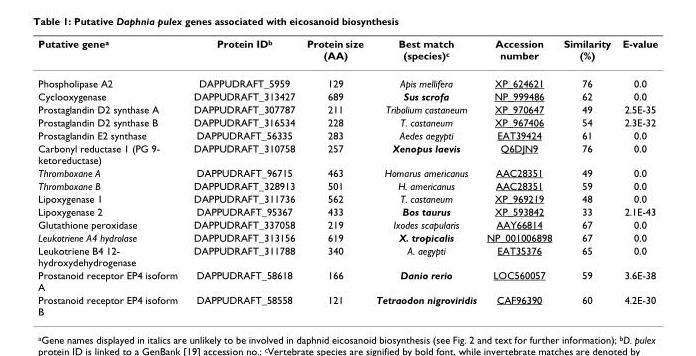table: (37, 37, 657, 316)
table column: (37, 37, 185, 316), (185, 37, 300, 316), (369, 37, 480, 316), (480, 37, 557, 316), (300, 37, 369, 316), (557, 37, 615, 316), (615, 37, 657, 316)
table column header: (37, 37, 657, 69)
table row: (37, 37, 657, 69), (37, 141, 657, 166), (37, 243, 657, 268), (37, 268, 657, 292), (37, 292, 657, 316), (37, 69, 657, 89), (37, 89, 657, 102), (37, 102, 657, 115), (37, 115, 657, 128), (37, 128, 657, 141), (37, 178, 657, 191), (37, 191, 657, 204), (37, 204, 657, 217), (37, 217, 657, 230), (37, 230, 657, 243), (37, 166, 657, 178)
